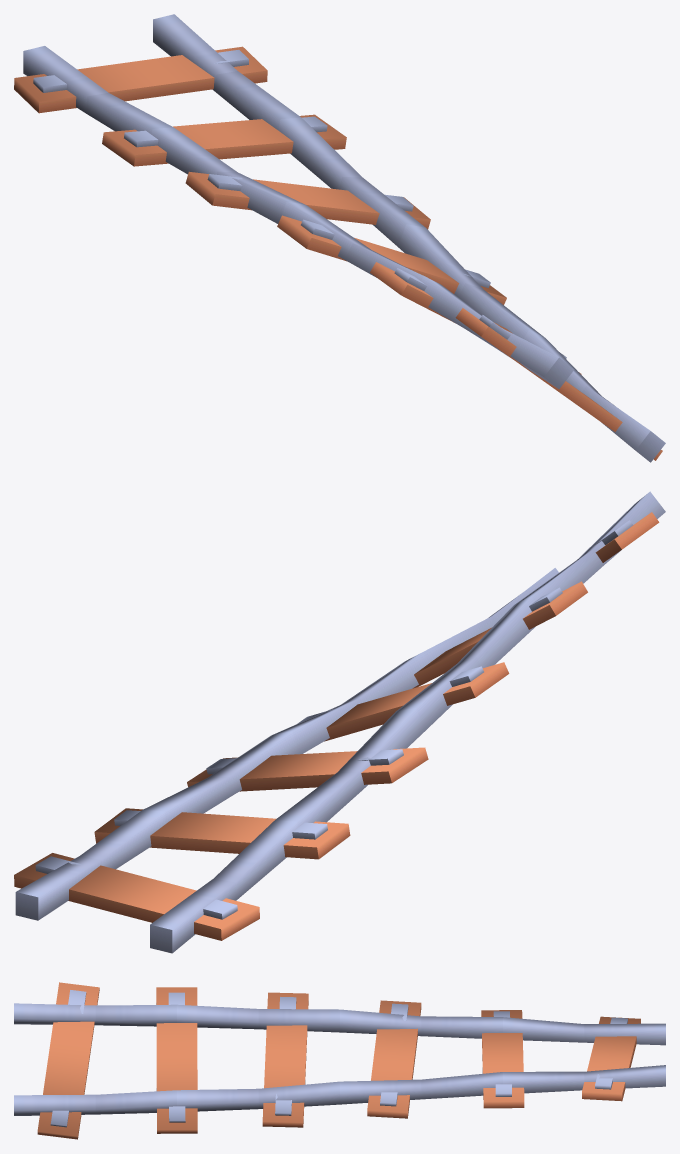
Rendered from kenney-train-railroad-damaged-straight-skew-left.glb.
3 views of the same model, one above another, from view 1: azimuth 30°, elevation 25°; view 2: azimuth 150°, elevation 25°; view 3: azimuth 270°, elevation 25° (orthographic). The views are drawn at different scales.
Visible parts, largest first — view 1: railroad-damaged-straight-skew-left; view 2: railroad-damaged-straight-skew-left; view 3: railroad-damaged-straight-skew-left.
Part boxes in pixels (x1,y1,x2,y2): railroad-damaged-straight-skew-left: (14, 14, 665, 462); railroad-damaged-straight-skew-left: (14, 491, 665, 953); railroad-damaged-straight-skew-left: (14, 982, 665, 1139).
Size of the model in its own units: 1.02 by 0.7266 by 4.
1 material, 1 textured.
